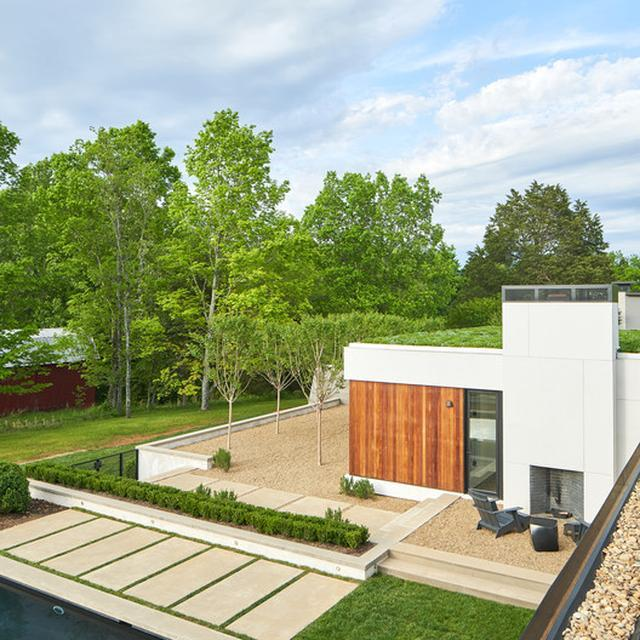building: (331, 274, 628, 530)
